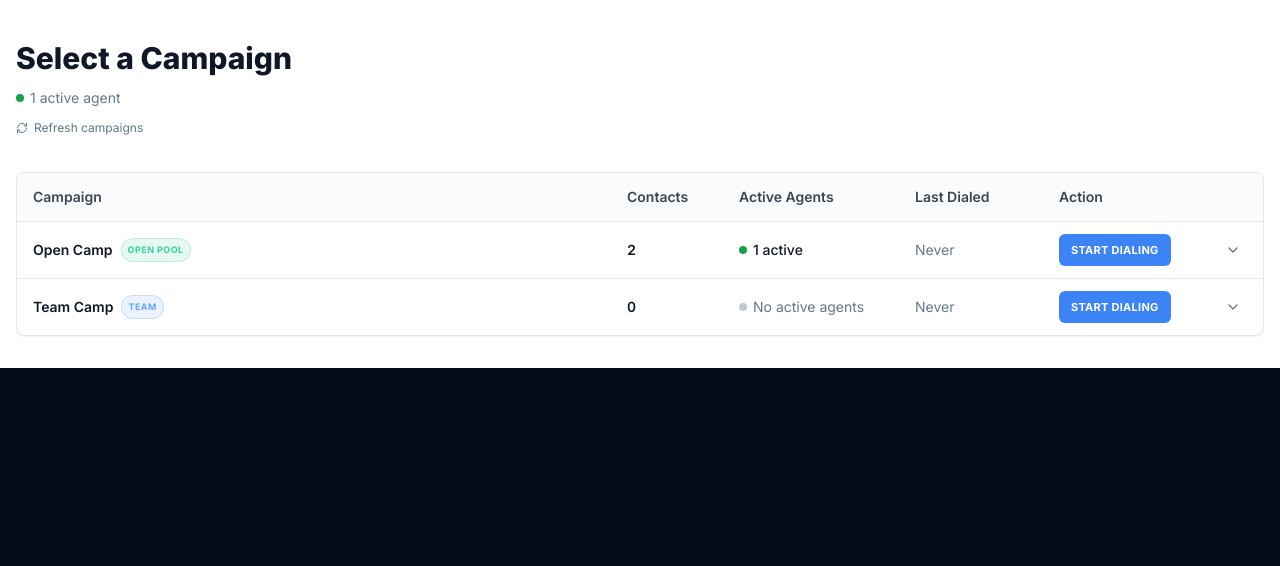
expand/collapse › shows the existing campaign details in the expanded row
What coordinates should you click on to do the following:
click the row "Team Camp Team 0 No active agents Never Start Dialing"
I would click on:
 (73, 306)
Its box is [17, 278, 1263, 334].
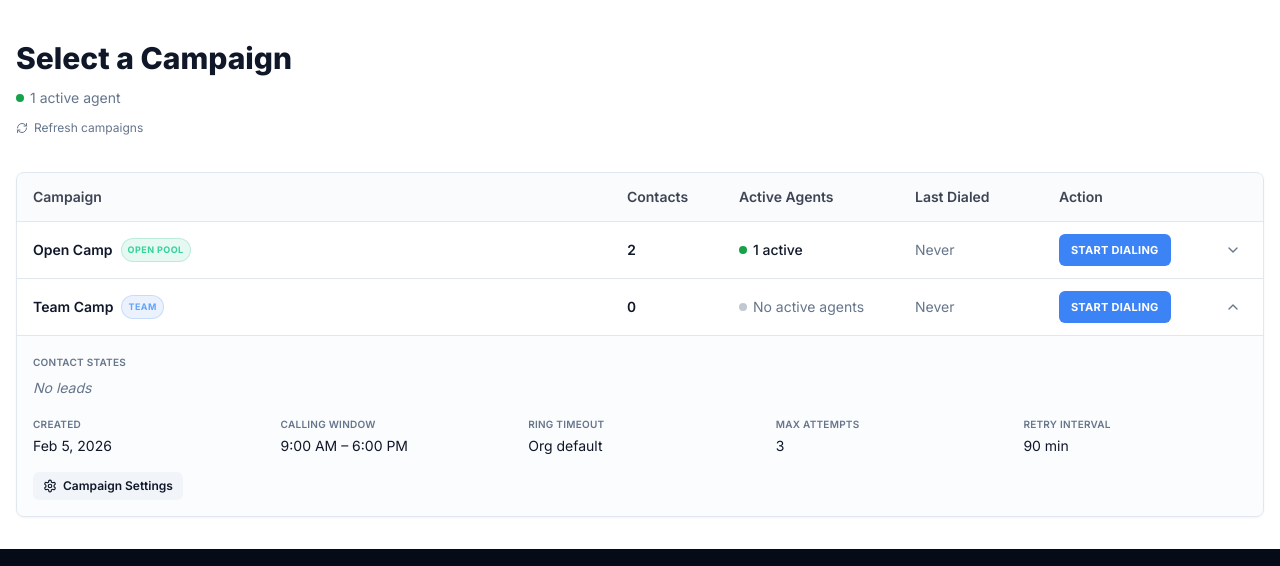
Expected: the text "Created" is shown, [33, 418, 81, 430]
Expected: the text "Calling window" is shown, [281, 418, 376, 430]
Expected: the text "Ring timeout" is shown, [528, 418, 604, 430]
